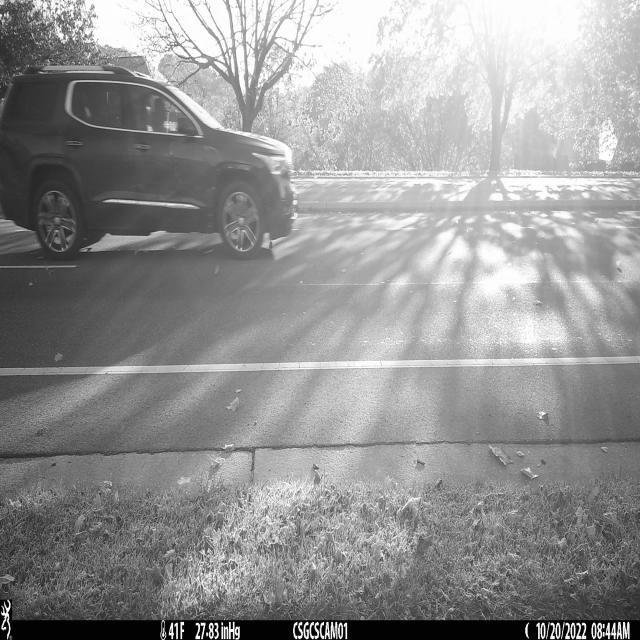SUV: (0, 66, 299, 258)
